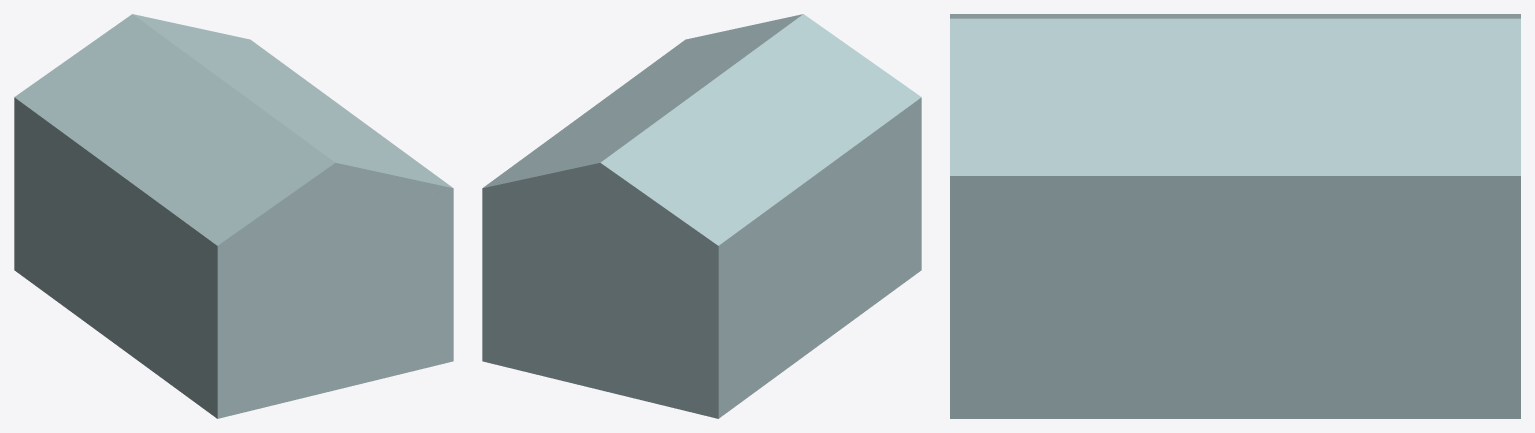
The model's file is super_jofo.glb.
3 renders of one model, left to right at view 1: azimuth 30°, elevation 25°; view 2: azimuth 150°, elevation 25°; view 3: azimuth 270°, elevation 25°, orthographic. The views are drawn at different scales.
Parts seen in each view (by area): view 1: Mesh_Mesh_head_geo.001_lambert2SG.001; view 2: Mesh_Mesh_head_geo.001_lambert2SG.001; view 3: Mesh_Mesh_head_geo.001_lambert2SG.001.
Boxes of the visible parts, x1=… form: Mesh_Mesh_head_geo.001_lambert2SG.001: x1=14, y1=14, x2=453, y2=418; Mesh_Mesh_head_geo.001_lambert2SG.001: x1=482, y1=14, x2=921, y2=418; Mesh_Mesh_head_geo.001_lambert2SG.001: x1=950, y1=14, x2=1520, y2=418.
Size of the model in its own units: 100 by 92 by 149.
